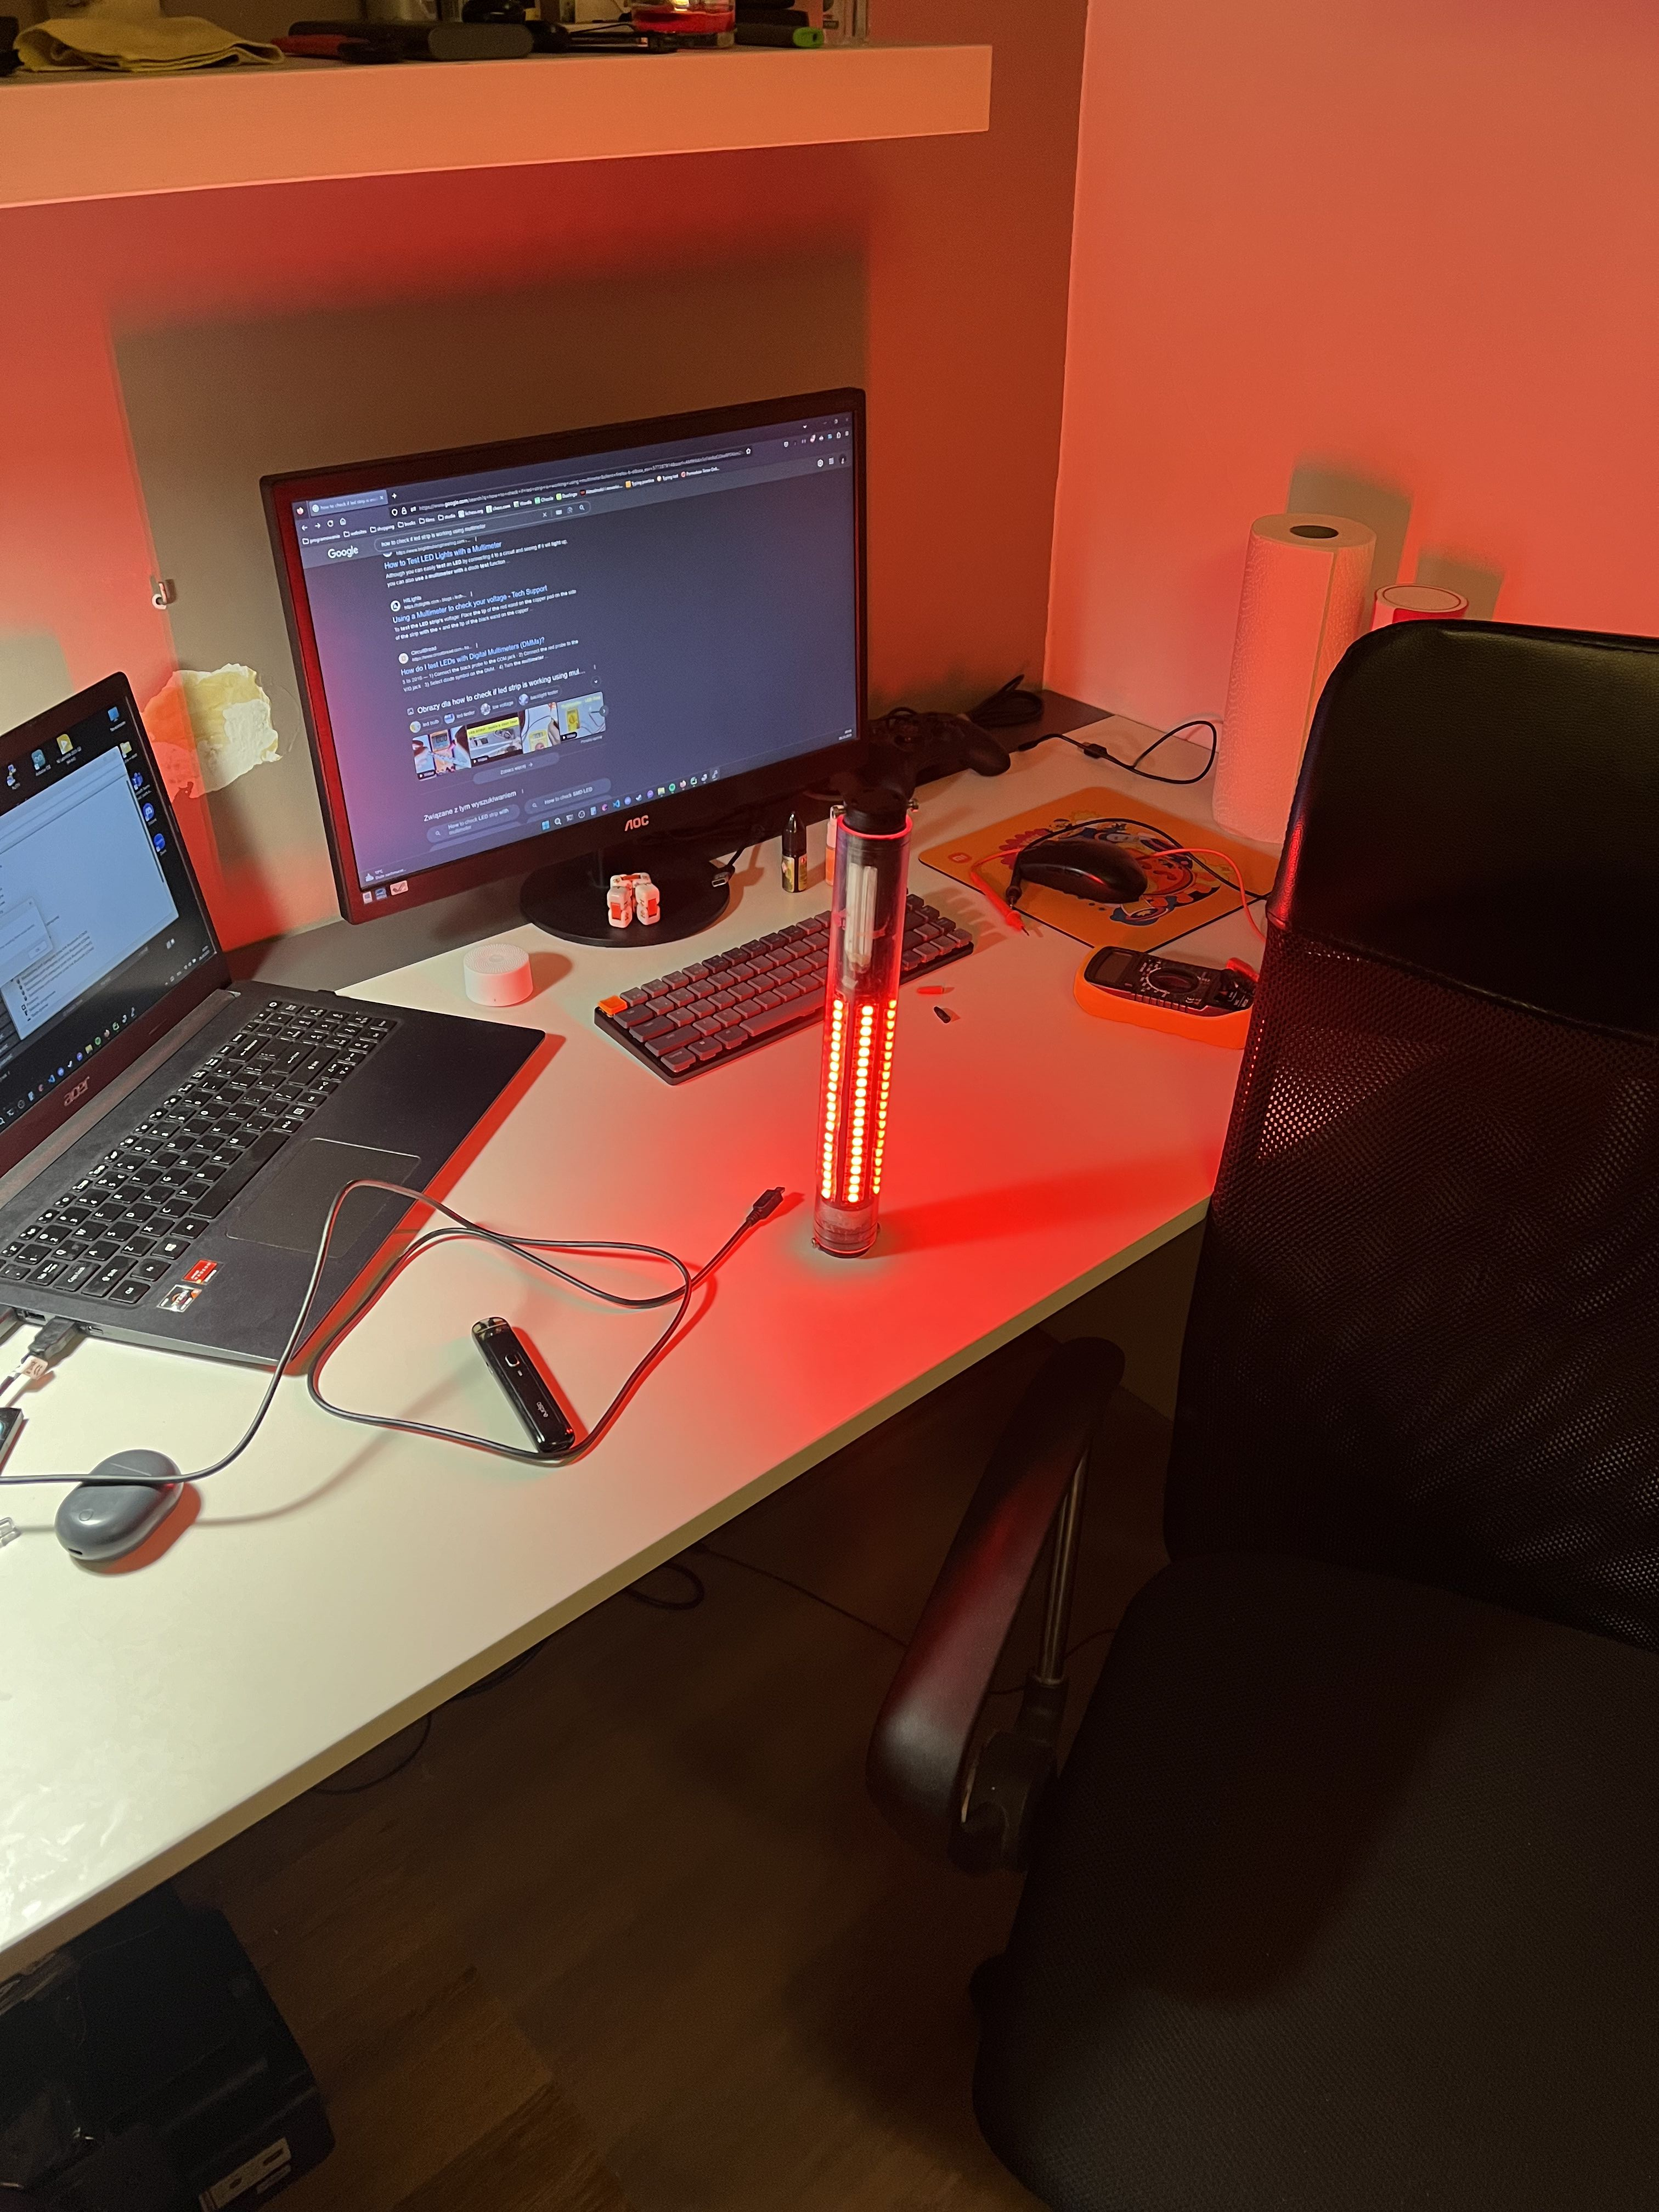red: (817, 829, 908, 1249)
